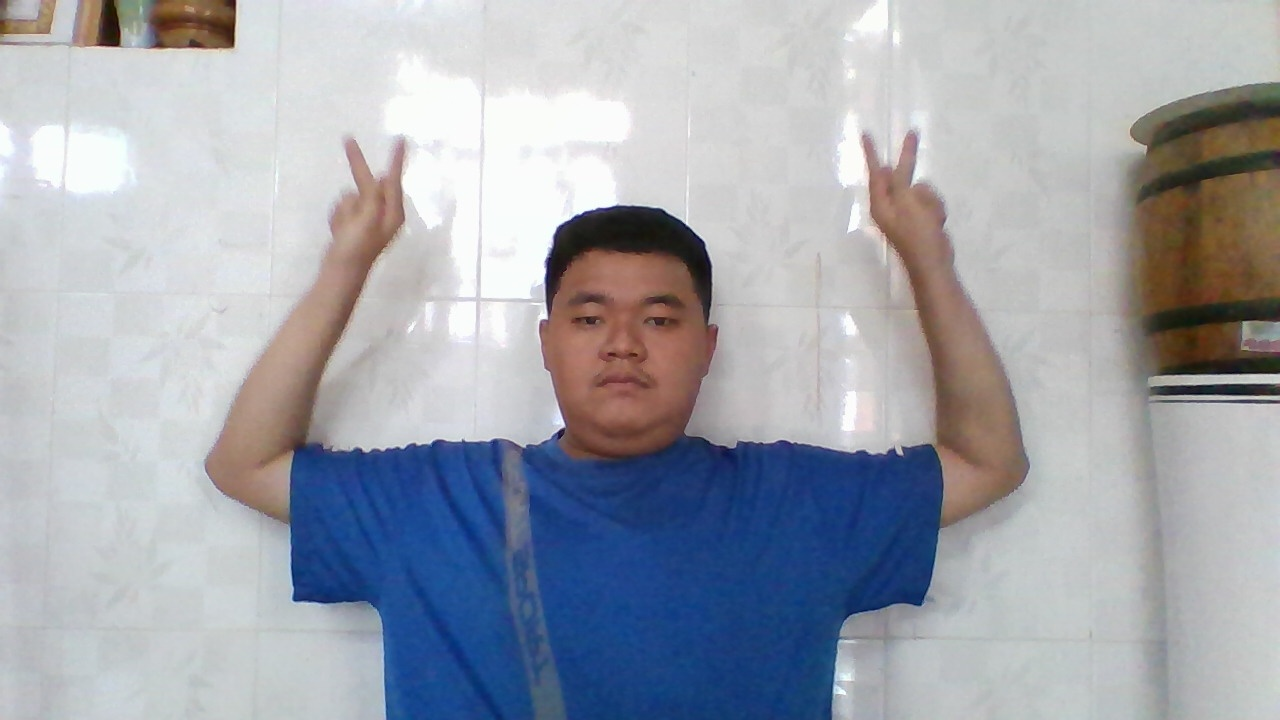K: (848, 119, 952, 277), (325, 124, 417, 280)
